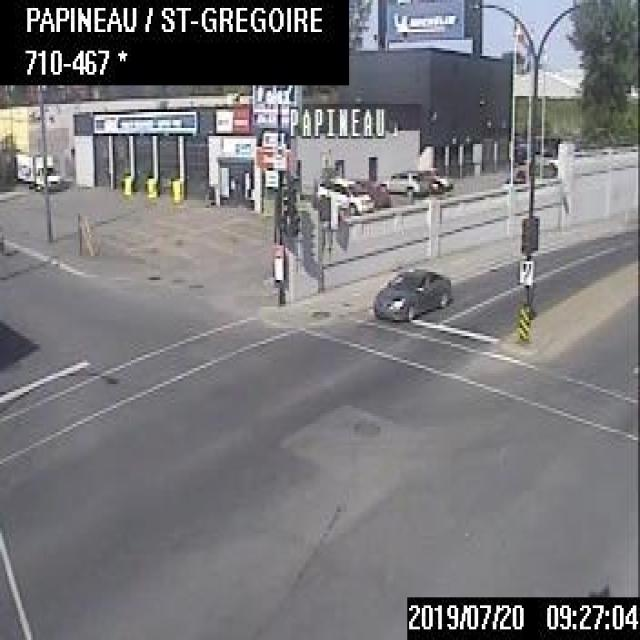vehicle: (371, 267, 449, 320), (316, 173, 374, 216), (12, 148, 62, 192), (351, 174, 389, 208), (383, 168, 421, 194)
